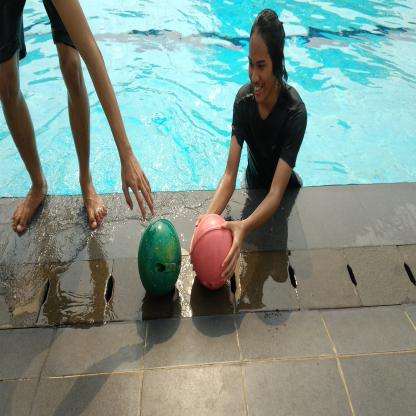green_buoy: (135, 217, 182, 296)
red_buoy: (190, 215, 233, 288)
